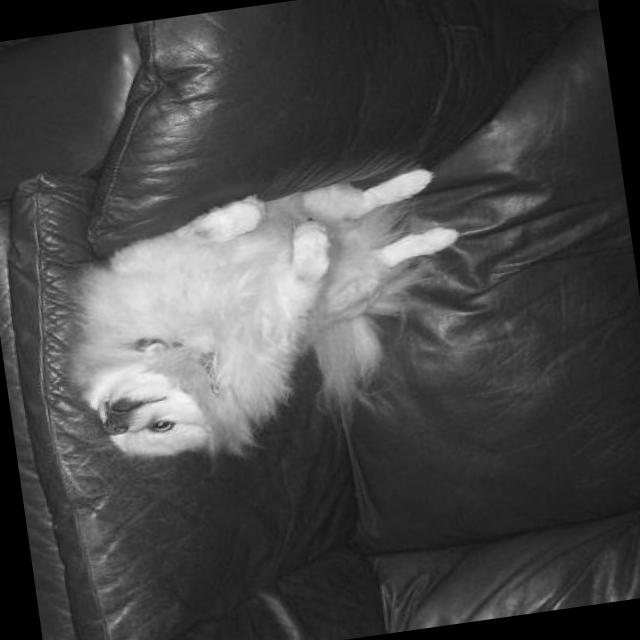laying down: (37, 158, 493, 480)
